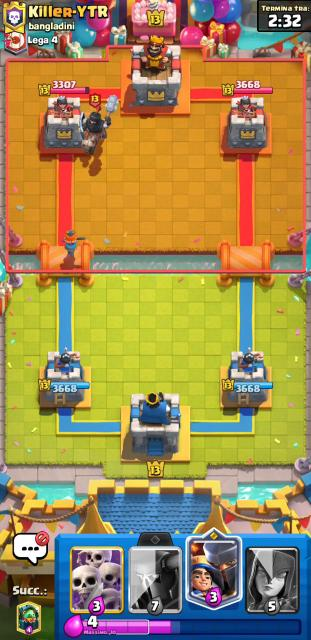enemy_melee: (79, 95, 120, 155)
